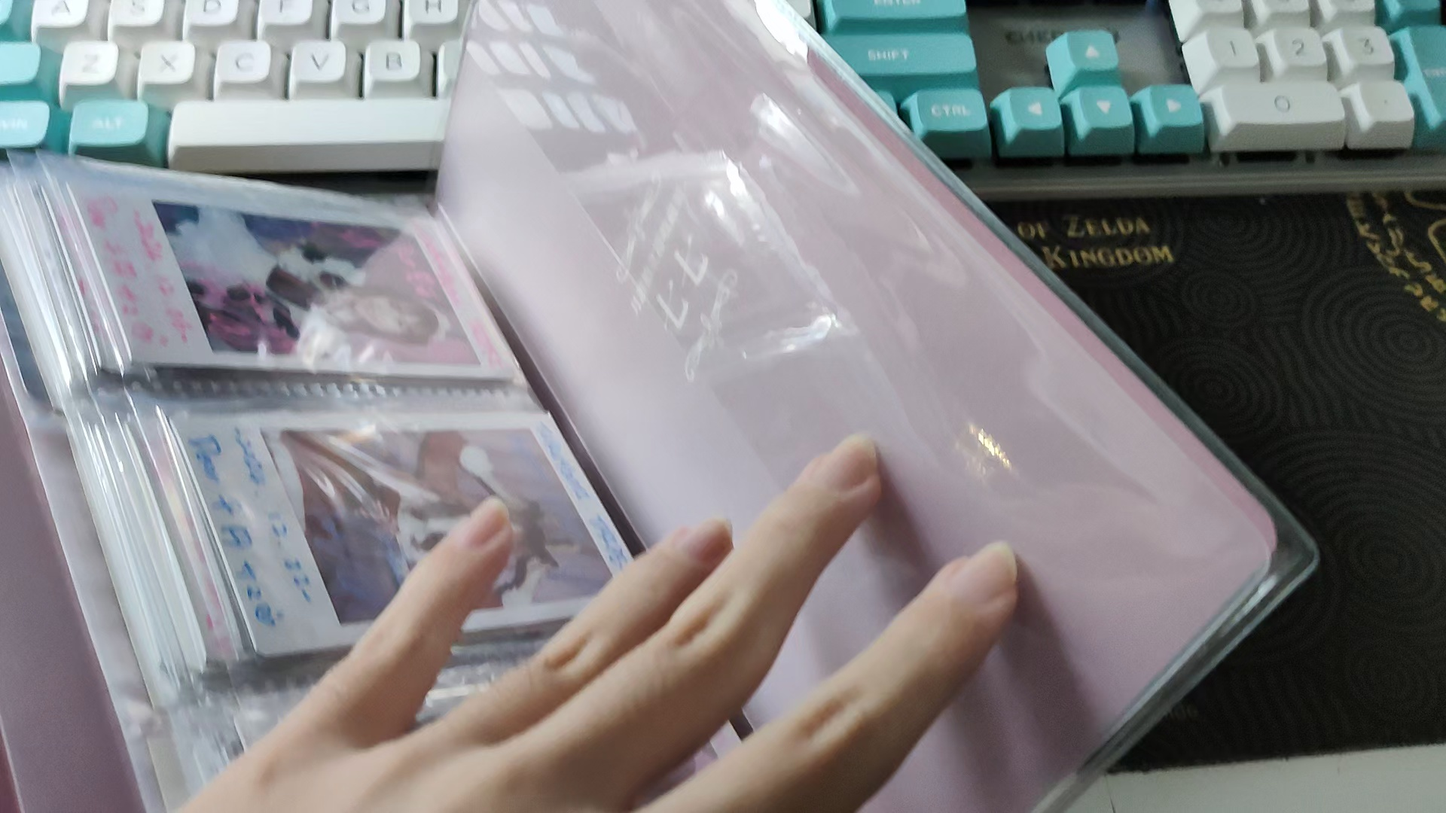Photo_book: (0, 0, 1320, 813)
